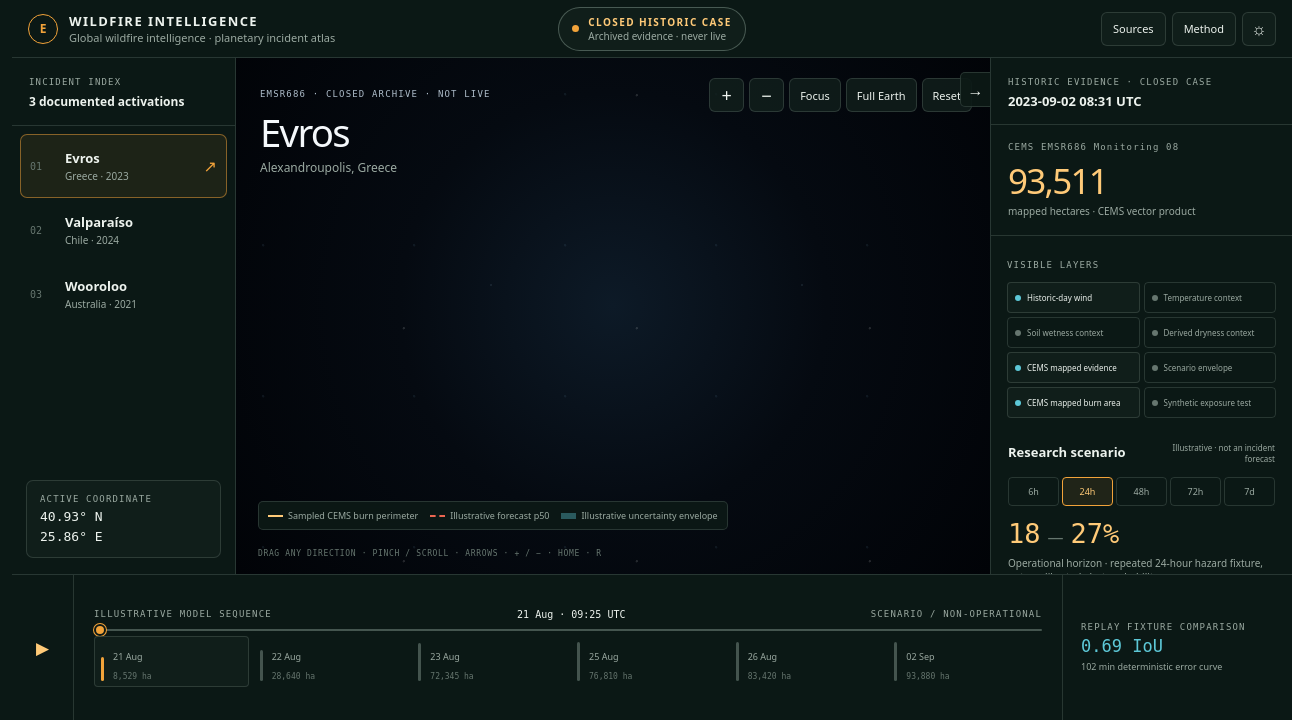
Test: wildfire dashboard controls › changes the probability when the forecast horizon changes
This screenshot has width=1292, height=720.
Check: the element with class "risk-range" reads "18 — 27%", box [1008,518,1119,549]
What coordinates should you click on to do the following:
click the tab "7d"
I would click on:
 (1250, 491)
Its box is [1224,477,1275,506].
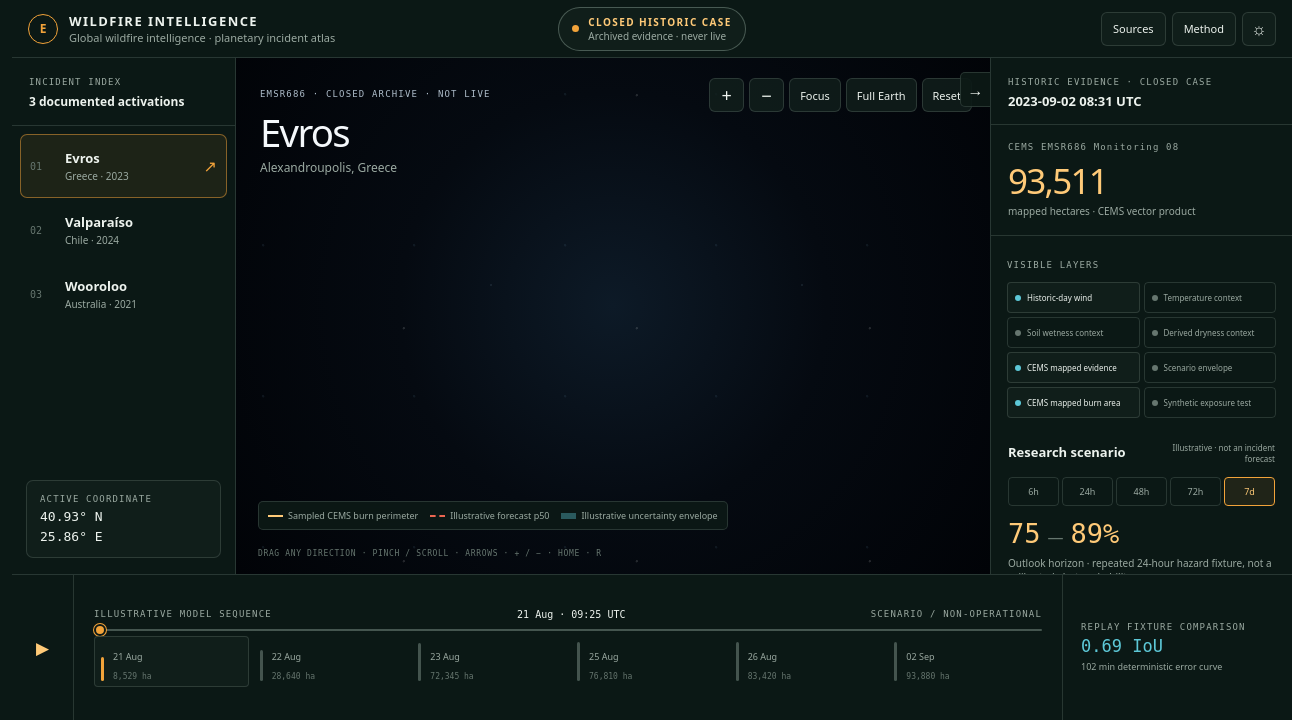
Check: the element with class "risk-range" reads "75 — 89%", box [1008,518,1119,549]
